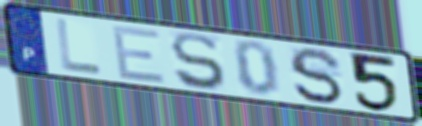0: (232, 39, 280, 98)
5: (345, 50, 404, 114)
E: (109, 23, 169, 86)
L: (54, 16, 105, 76)
S: (168, 31, 229, 93), (286, 45, 347, 107)
